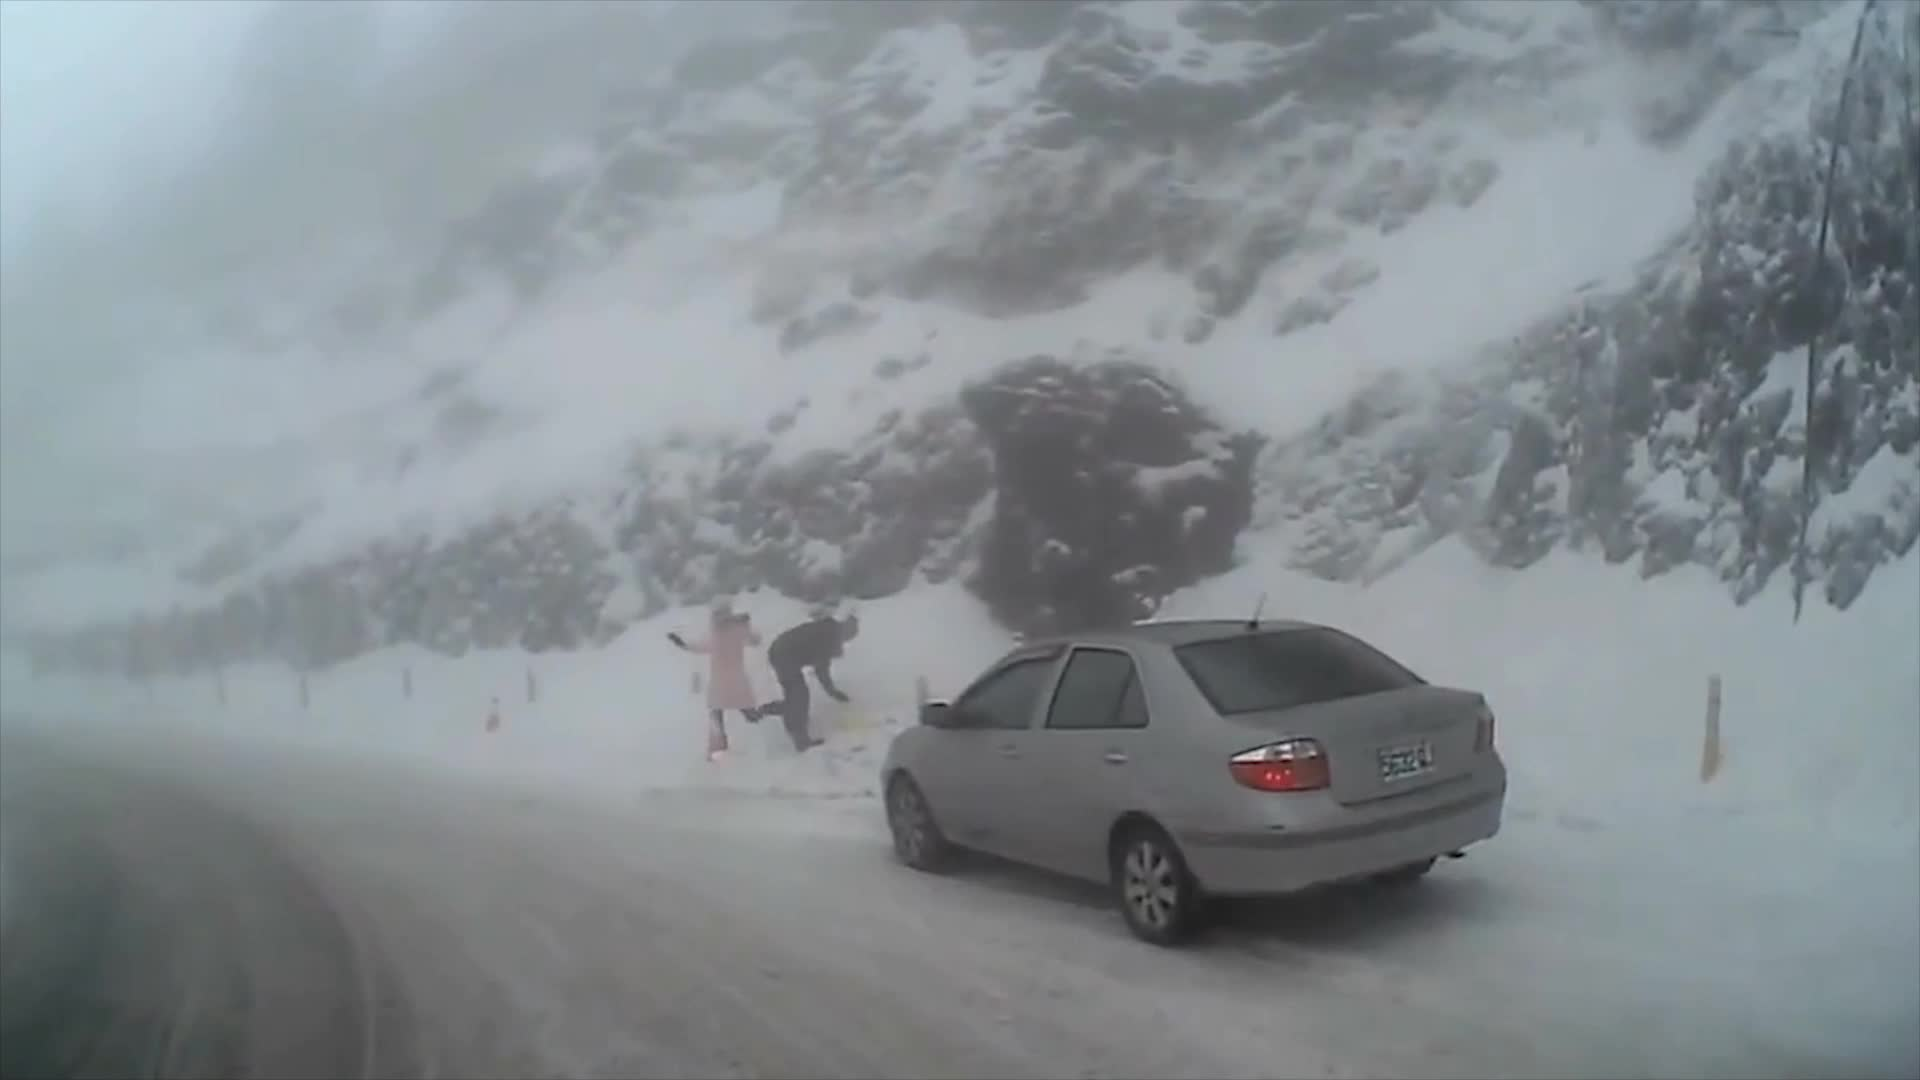pedestrian: (670, 596, 775, 756), (773, 615, 862, 754)
vehicle: (879, 616, 1506, 946)
